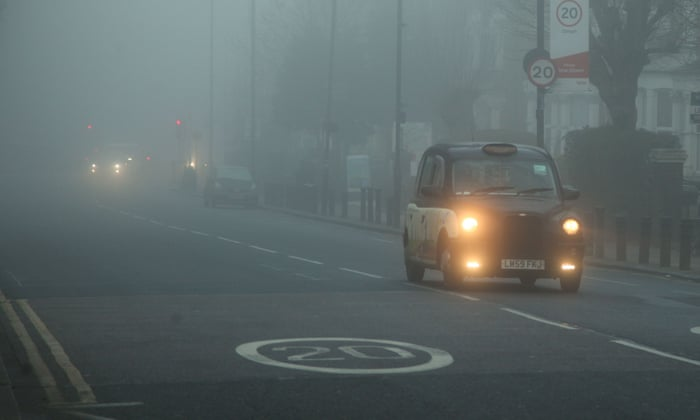car: (400, 140, 588, 293), (204, 165, 259, 207), (88, 147, 125, 180)
